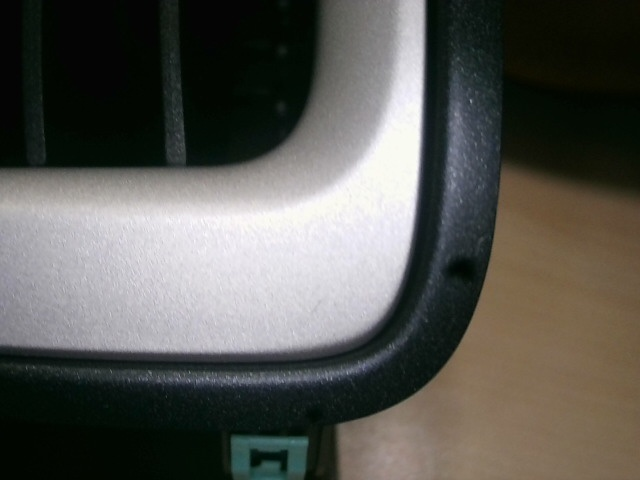NG: (304, 291, 335, 324), (472, 226, 490, 259)
